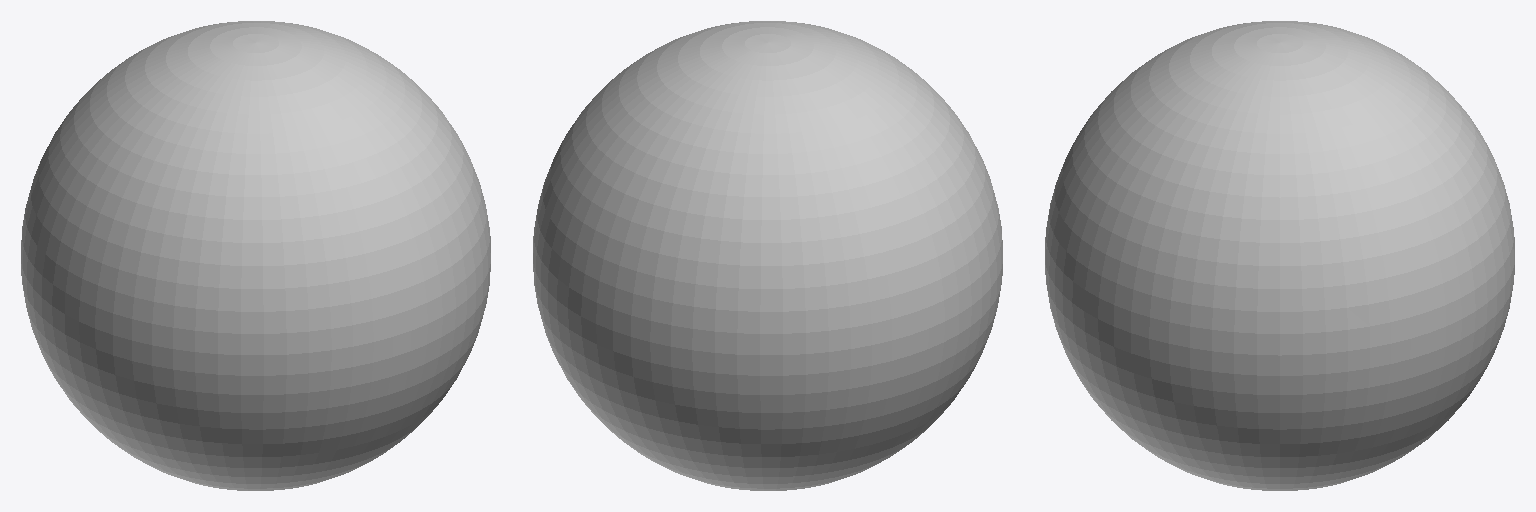
Rendered from skybox.obj.
3 views of the same model, side by side, from view 1: azimuth 30°, elevation 25°; view 2: azimuth 150°, elevation 25°; view 3: azimuth 270°, elevation 25° (orthographic).
Parts seen in each view (by area): view 1: Sphere__0; view 2: Sphere__0; view 3: Sphere__0.
Part boxes in pixels (bbox=[...]): Sphere__0: bbox=[21, 21, 490, 490]; Sphere__0: bbox=[533, 21, 1002, 490]; Sphere__0: bbox=[1045, 21, 1514, 490].
Bounding box in the file's own units: 1000 × 1000 × 1000.